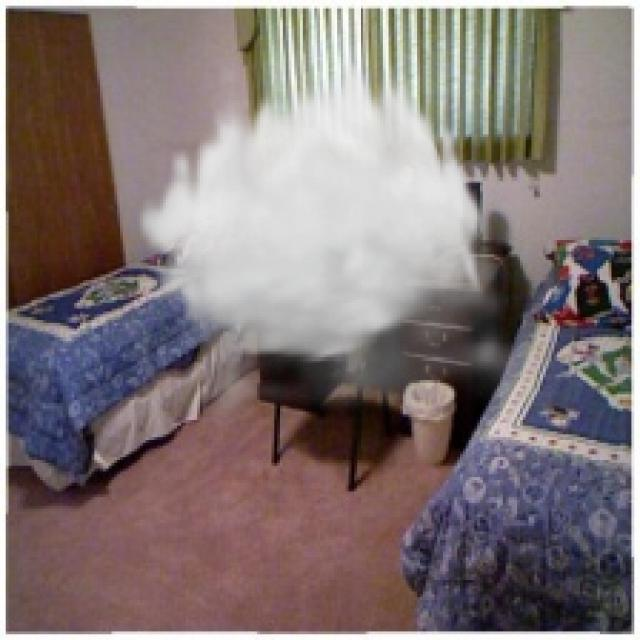Smoke: (135, 52, 560, 437)
